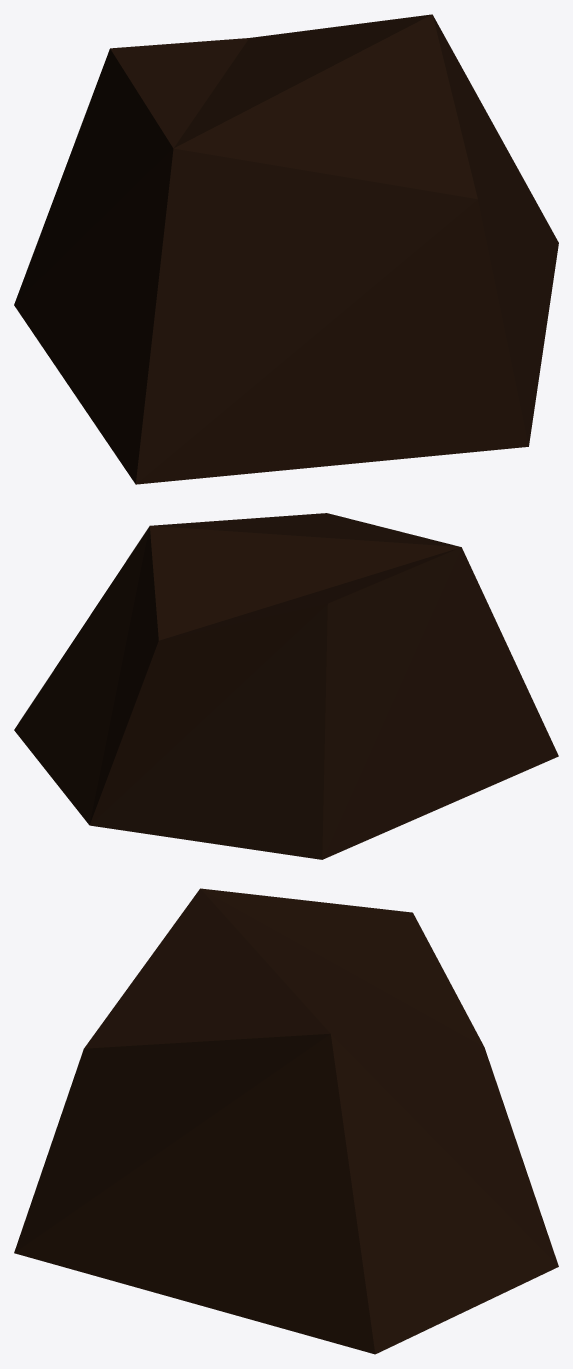
The model's file is Tree2_M1_dead3.fbx.
The picture shows the model from 3 angles, top to bottom: view 1: azimuth 30°, elevation 25°; view 2: azimuth 150°, elevation 25°; view 3: azimuth 270°, elevation 25°; orthographic projection. The views are drawn at different scales.
Visible parts, largest first — view 1: Tree2_M1_dead3; view 2: Tree2_M1_dead3; view 3: Tree2_M1_dead3.
Boxes of the visible parts, x1=… form: Tree2_M1_dead3: x1=14, y1=14, x2=558, y2=484; Tree2_M1_dead3: x1=14, y1=513, x2=558, y2=859; Tree2_M1_dead3: x1=14, y1=888, x2=558, y2=1354.
Bounding box in the file's own units: 82.85 × 39.75 × 77.13.
